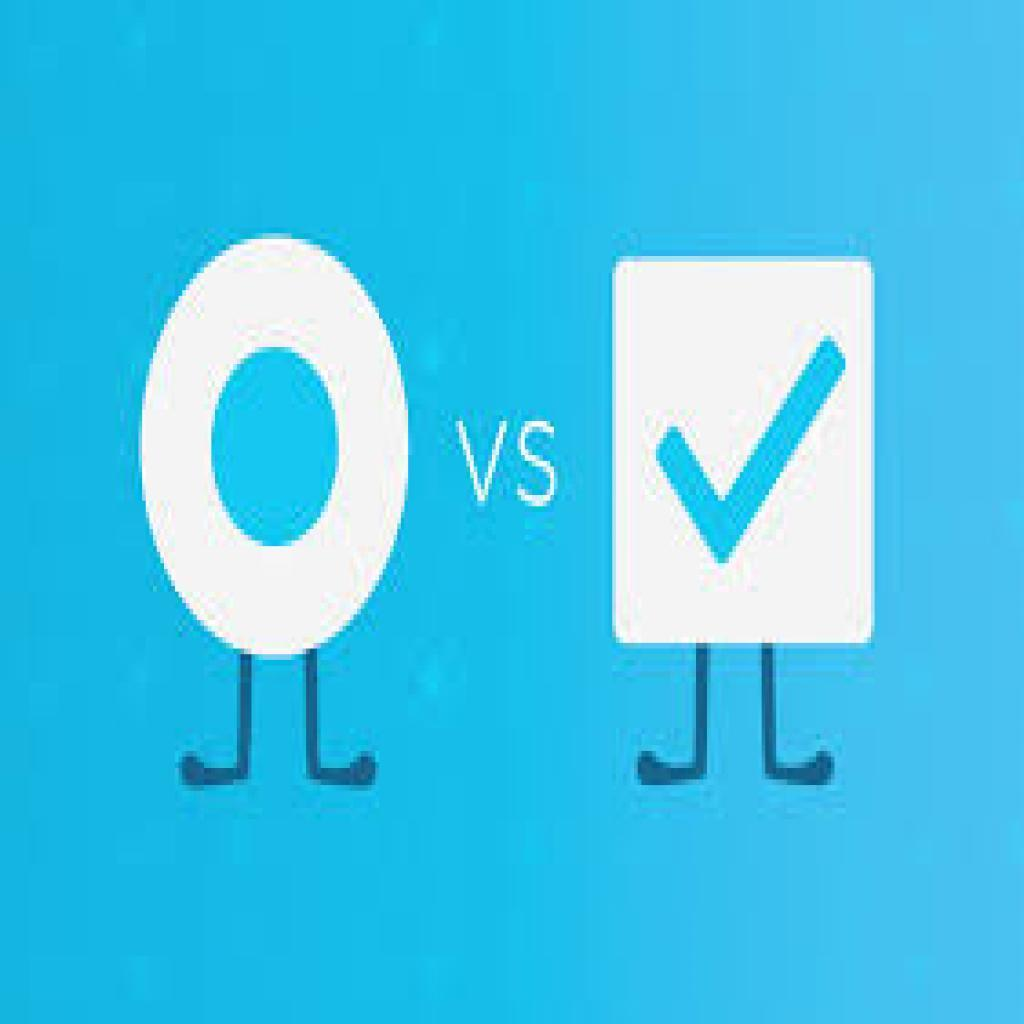checkbox: (615, 259, 872, 642)
radio: (145, 236, 413, 656)
